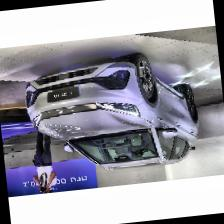EV: (21, 49, 205, 181)
